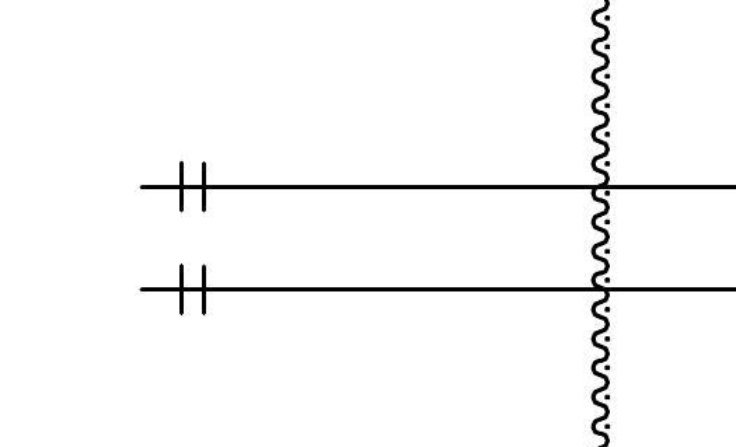115_buffer: (179, 263, 206, 316), (179, 160, 206, 213)
